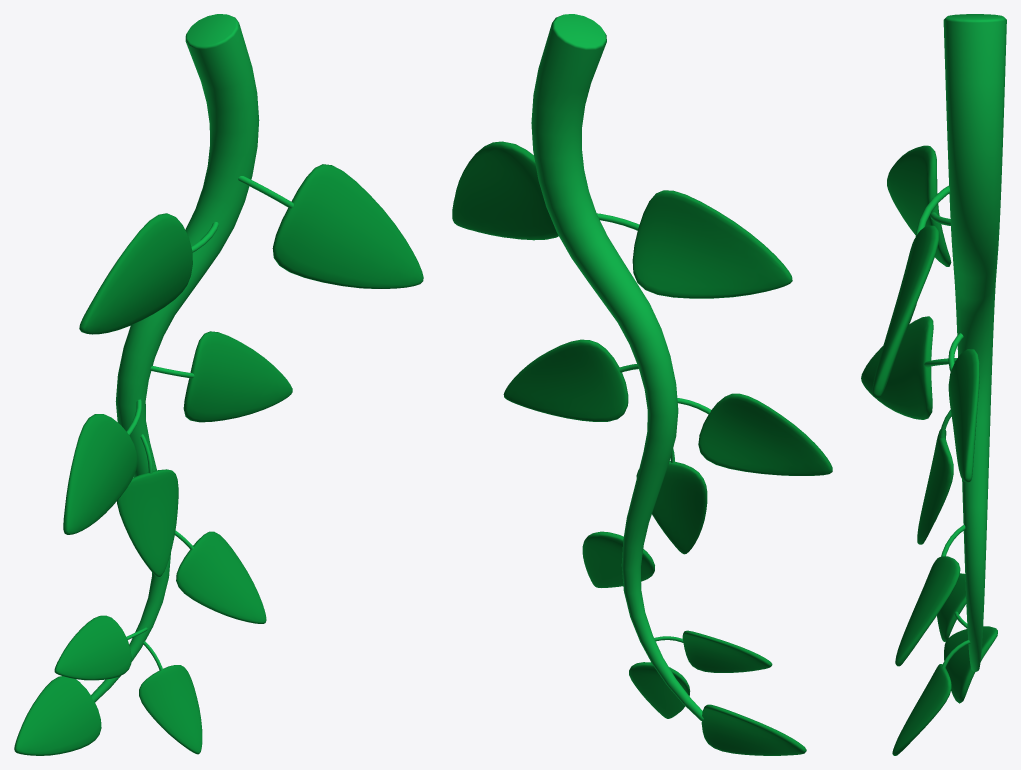
The model's file is Town_20_Ivy_1.glb.
The picture shows the model from 3 angles, left to right: view 1: azimuth 30°, elevation 25°; view 2: azimuth 150°, elevation 25°; view 3: azimuth 270°, elevation 25°; orthographic projection. The views are drawn at different scales.
Parts seen in each view (by area): view 1: Town_20_Ivy_1; view 2: Town_20_Ivy_1; view 3: Town_20_Ivy_1.
Part boxes in pixels (x1=…): Town_20_Ivy_1: x1=14, y1=14, x2=423, y2=755; Town_20_Ivy_1: x1=452, y1=14, x2=832, y2=755; Town_20_Ivy_1: x1=861, y1=14, x2=1006, y2=755.
Bounding box in the file's own units: 1.53 × 2.69 × 0.4592.
1 material, 1 textured.
